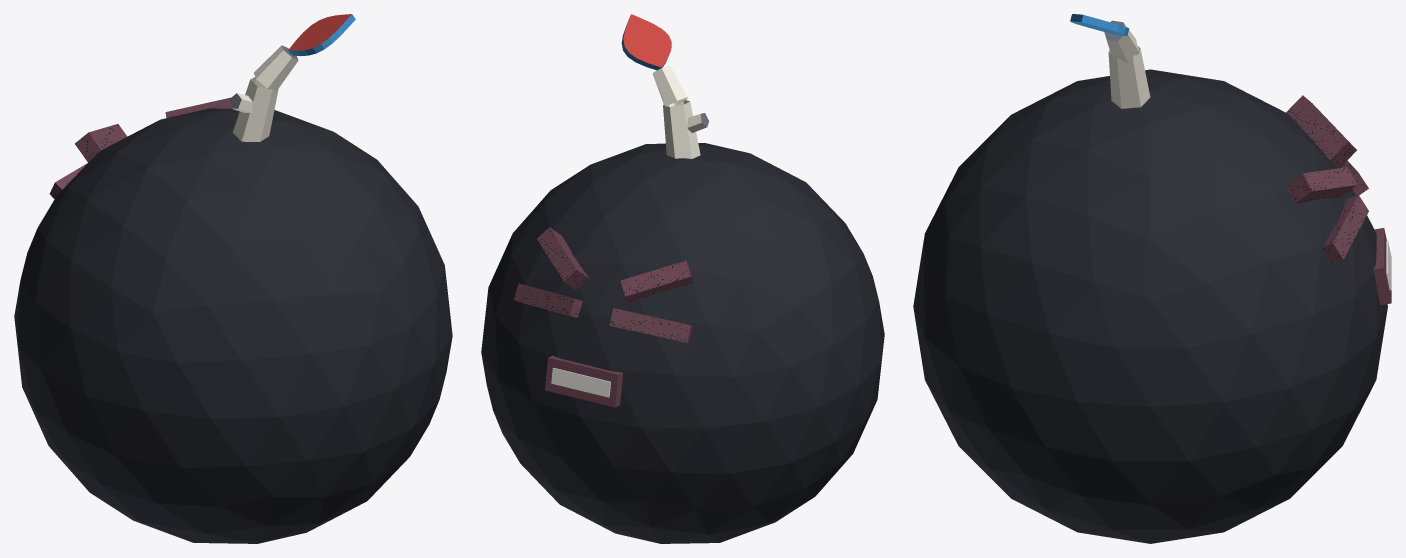
File: CH_Dalcik_T4_Blink.fbx
3 renders of one model, left to right at view 1: azimuth 30°, elevation 25°; view 2: azimuth 150°, elevation 25°; view 3: azimuth 270°, elevation 25°, orthographic. The views are drawn at different scales.
Visible parts, largest first — view 1: CH_Dalcik_T4_Blink; view 2: CH_Dalcik_T4_Blink; view 3: CH_Dalcik_T4_Blink.
Boxes of the visible parts, bbox=[...] form: CH_Dalcik_T4_Blink: bbox=[14, 14, 452, 543]; CH_Dalcik_T4_Blink: bbox=[481, 14, 884, 543]; CH_Dalcik_T4_Blink: bbox=[913, 14, 1391, 543].
Size of the model in its own units: 1 by 1.29 by 1.01.
